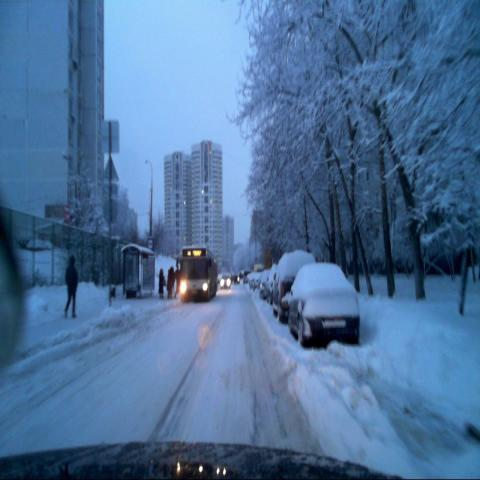5_16: (146, 235, 156, 255)
